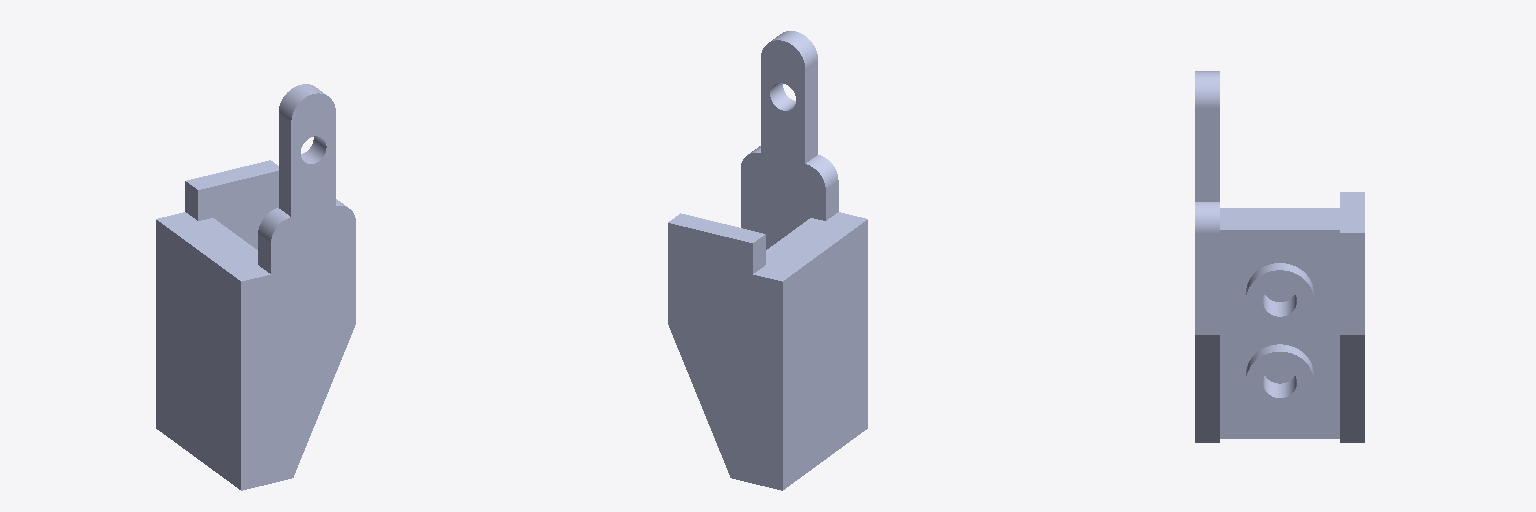
File: Pinza_Derecha_Organo_terminal.obj
3 views of the same model, side by side, from view 1: azimuth 30°, elevation 25°; view 2: azimuth 150°, elevation 25°; view 3: azimuth 270°, elevation 25° (orthographic).
Parts seen in each view (by area): view 1: Boss_Extrude5; view 2: Boss_Extrude5; view 3: Boss_Extrude5.
Part boxes in pixels (bbox=[...]): Boss_Extrude5: bbox=[156, 84, 355, 490]; Boss_Extrude5: bbox=[668, 31, 867, 490]; Boss_Extrude5: bbox=[1195, 71, 1364, 442].
Bounding box in the file's own units: 6.1 × 19.27 × 7.87.